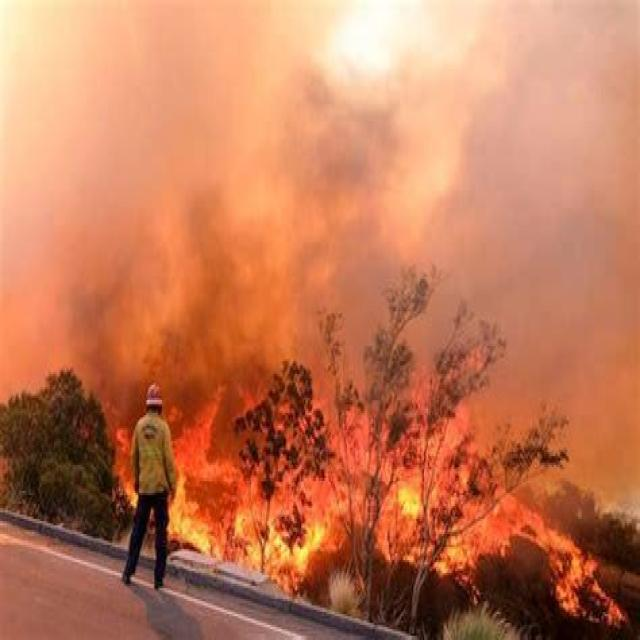fire: (108, 384, 622, 636)
smoke: (22, 45, 617, 281)
